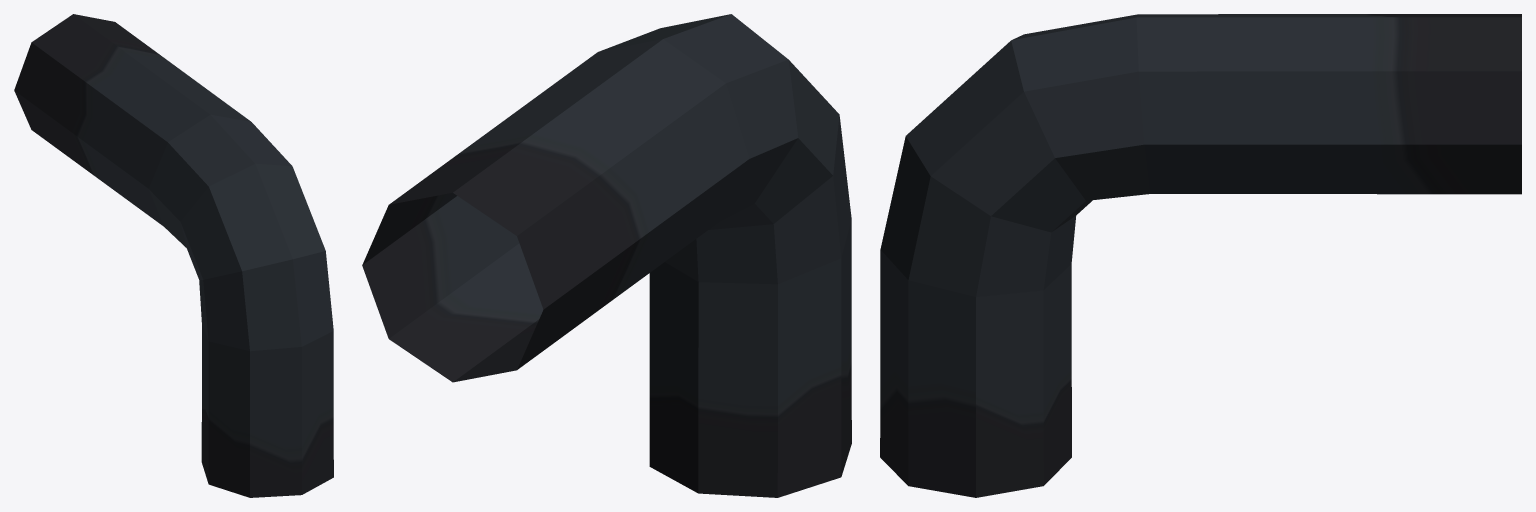
File: SM_Stove_Pipe_B_01.fbx
3 views of the same model, side by side, from view 1: azimuth 30°, elevation 25°; view 2: azimuth 150°, elevation 25°; view 3: azimuth 270°, elevation 25° (orthographic). The views are drawn at different scales.
Visible parts, largest first — view 1: SM_Stove_Pipe_B_01; view 2: SM_Stove_Pipe_B_01; view 3: SM_Stove_Pipe_B_01.
Part boxes in pixels (x1,y1,x2,y2): SM_Stove_Pipe_B_01: (14,14,333,497); SM_Stove_Pipe_B_01: (362,14,851,497); SM_Stove_Pipe_B_01: (880,14,1521,497).
Bounding box in the file's own units: 24.6 × 62.3 × 82.3.
